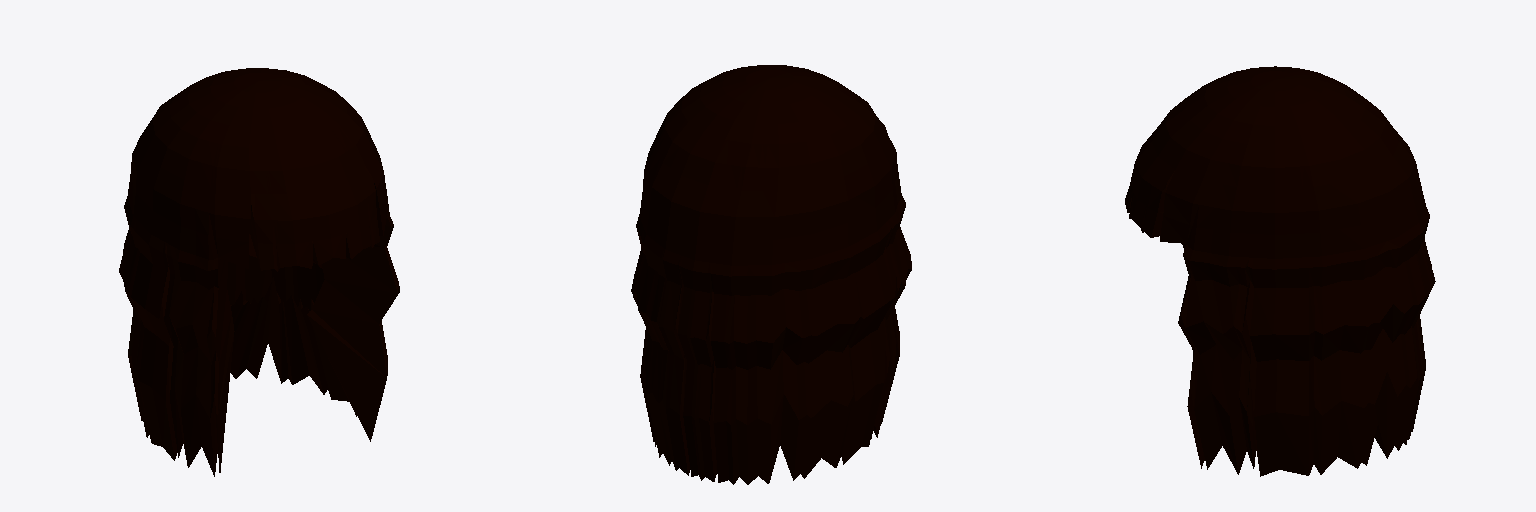
File: hair1.obj
3 renders of one model, left to right at view 1: azimuth 30°, elevation 25°; view 2: azimuth 150°, elevation 25°; view 3: azimuth 270°, elevation 25°, orthographic.
Visible parts, largest first — view 1: hair_short; view 2: hair_short; view 3: hair_short.
Part boxes in pixels (x1,y1,x2,y2): hair_short: (119,68,399,476); hair_short: (631,65,911,484); hair_short: (1125,66,1435,476).
Size of the model in its own units: 186 by 274 by 219.